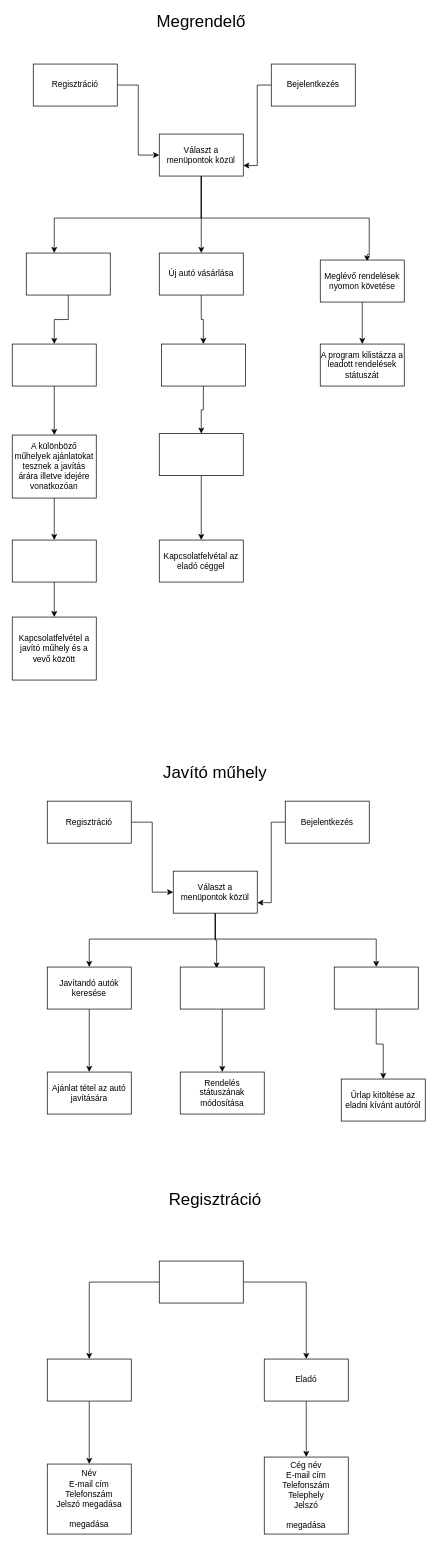
Image size: 438x1546. Some labels were removed from this diagram. The shapes that lost their labels are listed below. From the top down, each one's centre as x and y in pixels, then its label:
At pixel 68 273: "Meglévő autó javíttatása".
At pixel 54 364: "Feltölti az alkalmazásba, a javítandó autó típusát és hibáját".
At pixel 203 364: "Böngészés a program által kilistázott autók között".
At pixel 201 454: "Megfelelő autó kiválasztása".
At pixel 54 560: "A megfelelő cég kiválasztása".
At pixel 222 987: "Felvett rendelések kezelése".
At pixel 376 987: "Autók eladásra kínálása".
At pixel 201 1281: "Fiók típusának kiválasztása".
At pixel 89 1379: "Vevő".
